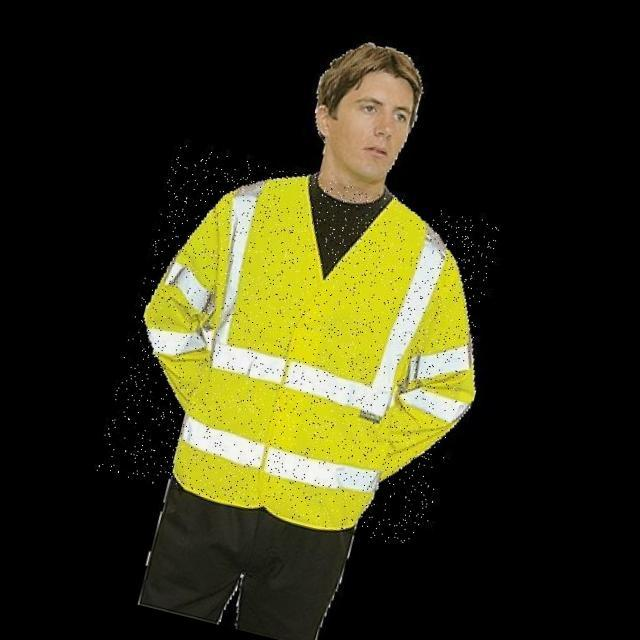Person: (63, 21, 537, 630)
Safety Vest: (95, 143, 502, 552)
no-helmet: (306, 35, 431, 123)
